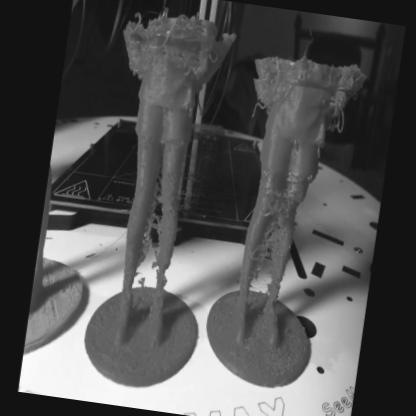fail: (144, 187, 167, 272), (255, 228, 280, 286), (325, 112, 347, 145)
